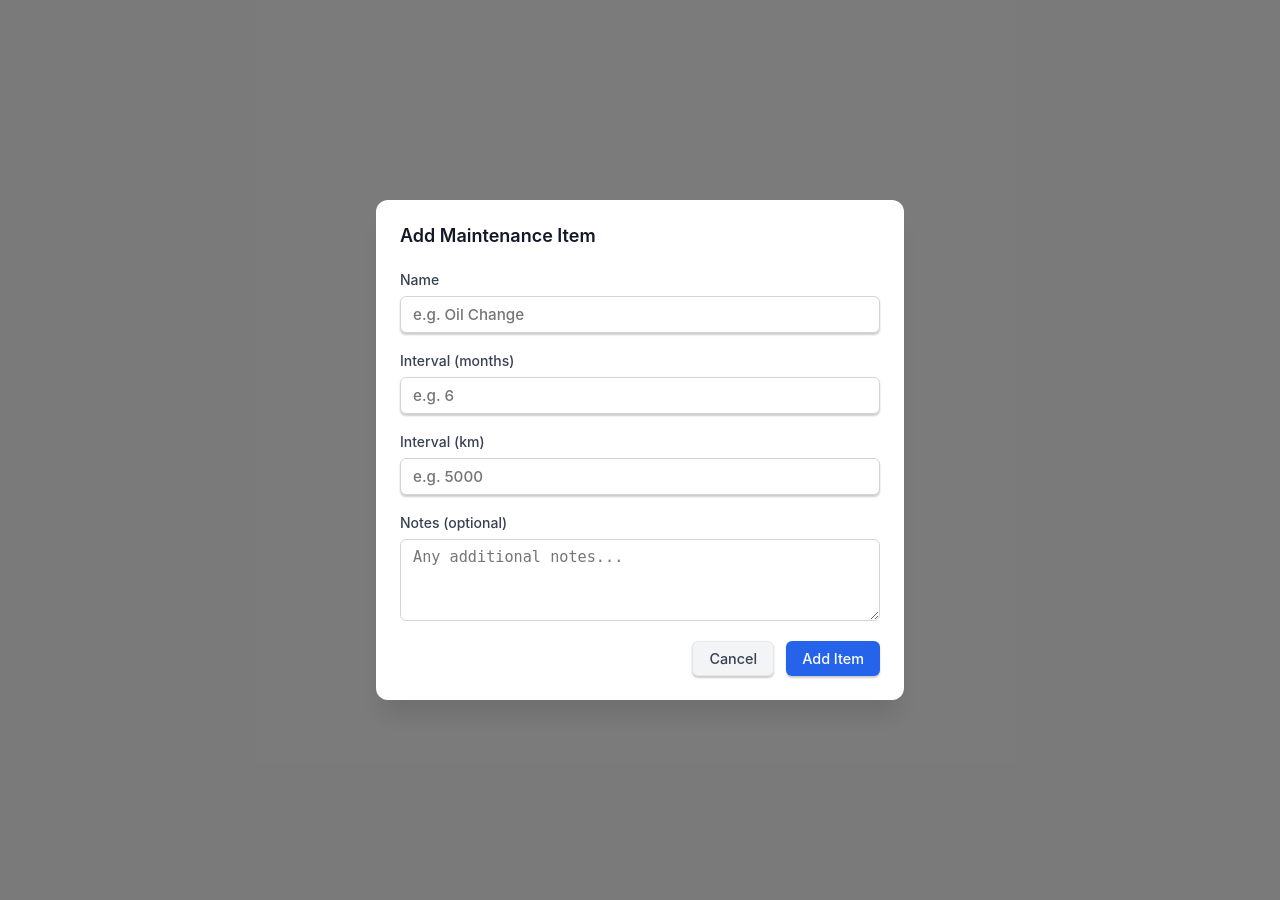
Test: AddEditMaintenanceItem › shows error when name is empty
# Set an interval so only name error fires
Type "6" into the number field with test id "input-interval-months". click: (640, 396)
box: [400, 377, 880, 414]
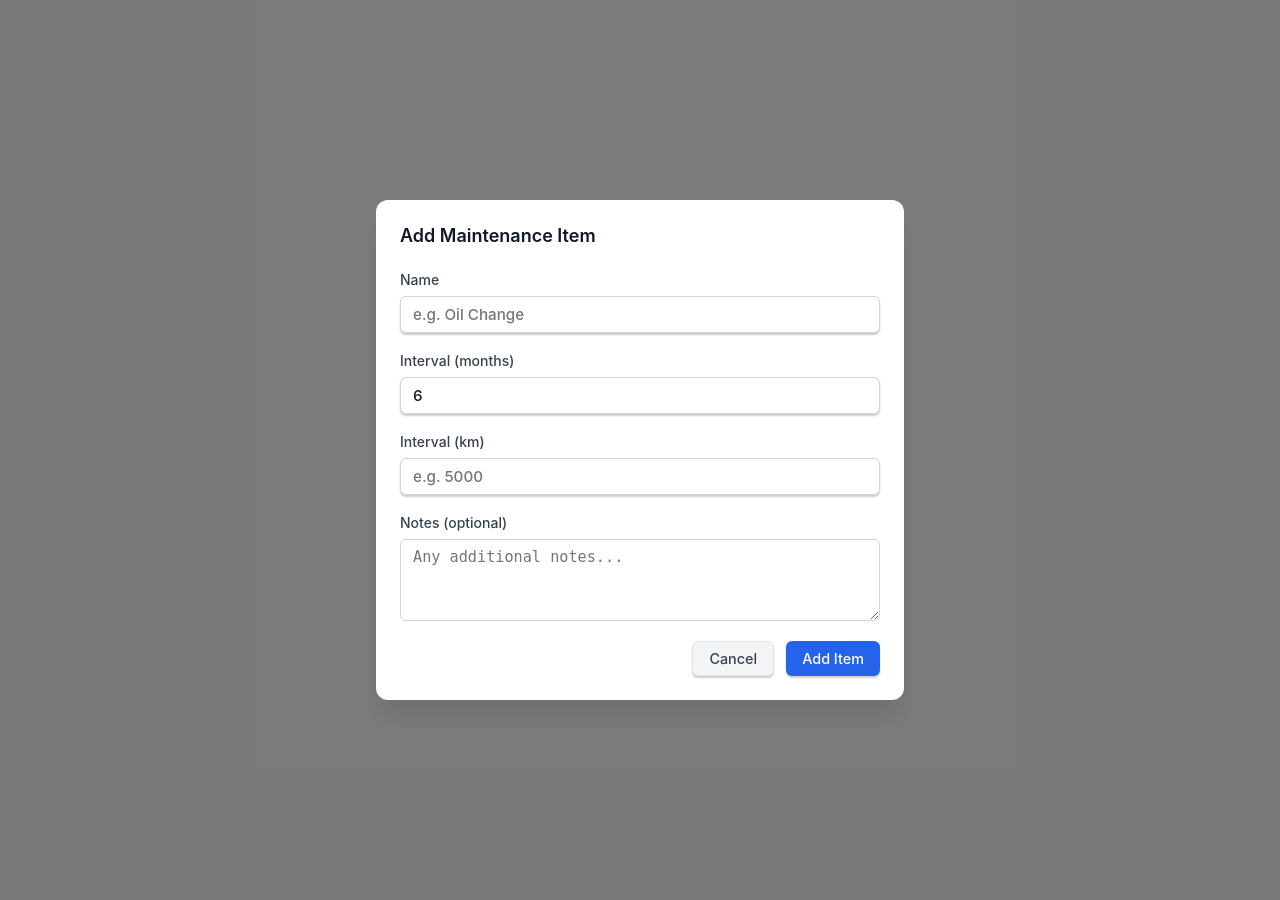
Click the button with test id "btn-submit". click: click(833, 658)
box: [786, 641, 880, 676]
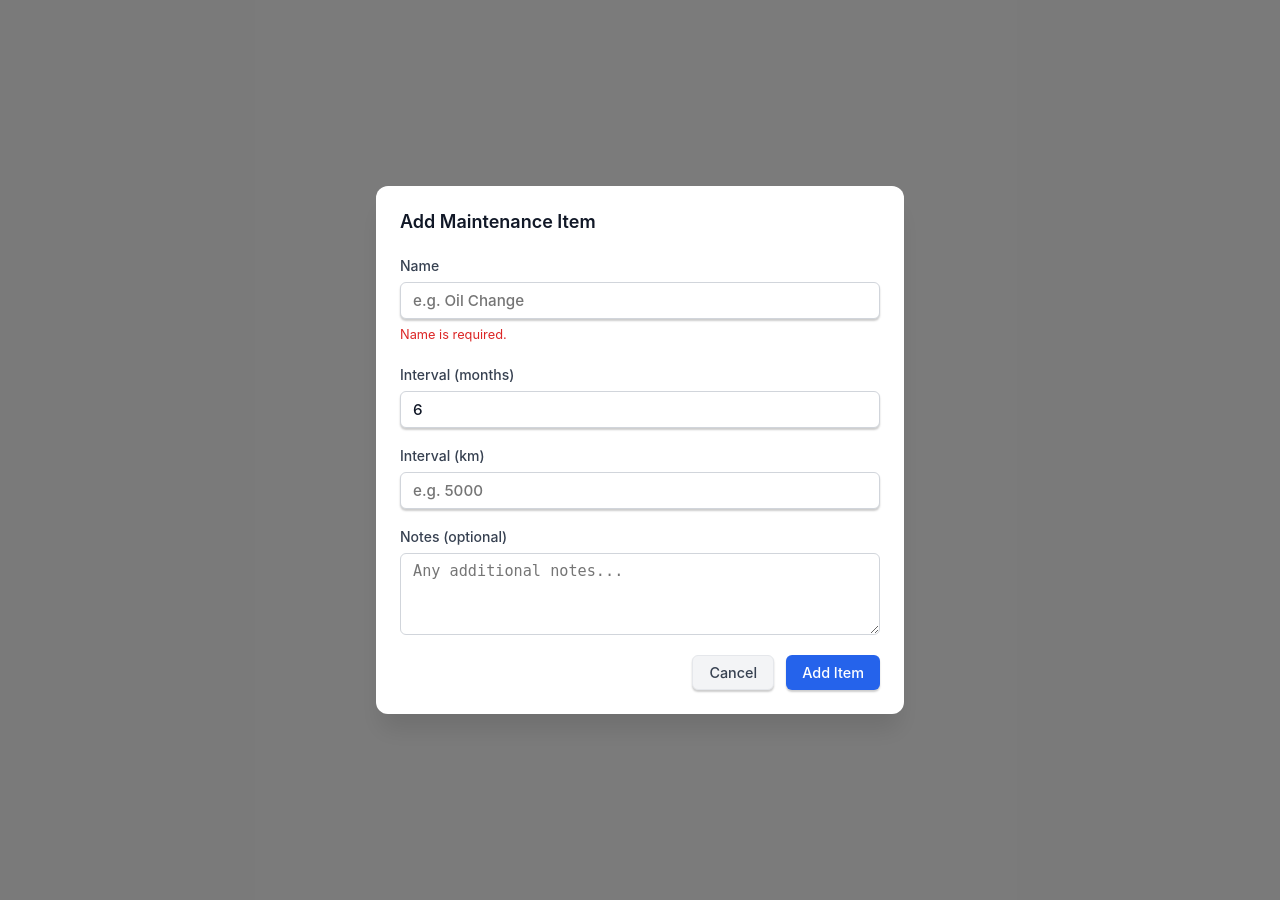
Check: the text with test id "error-name" reads "Name is required.", box [400, 327, 507, 342]
